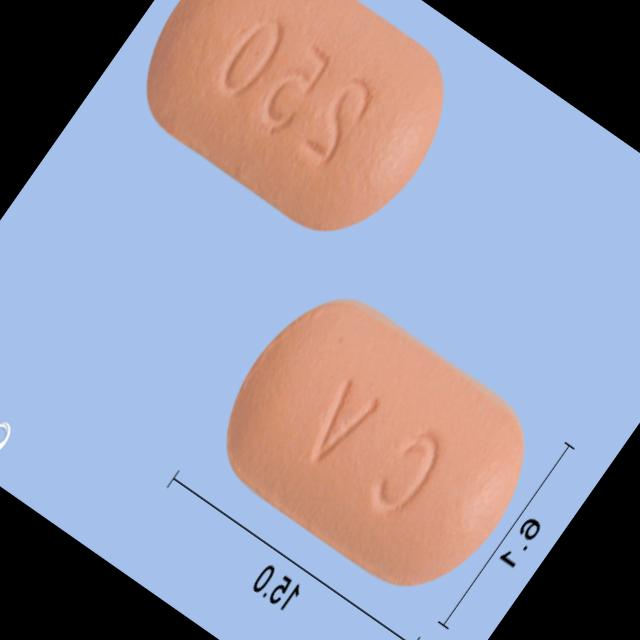Cravit - 500mg: (193, 268, 557, 616), (111, 0, 479, 263)
